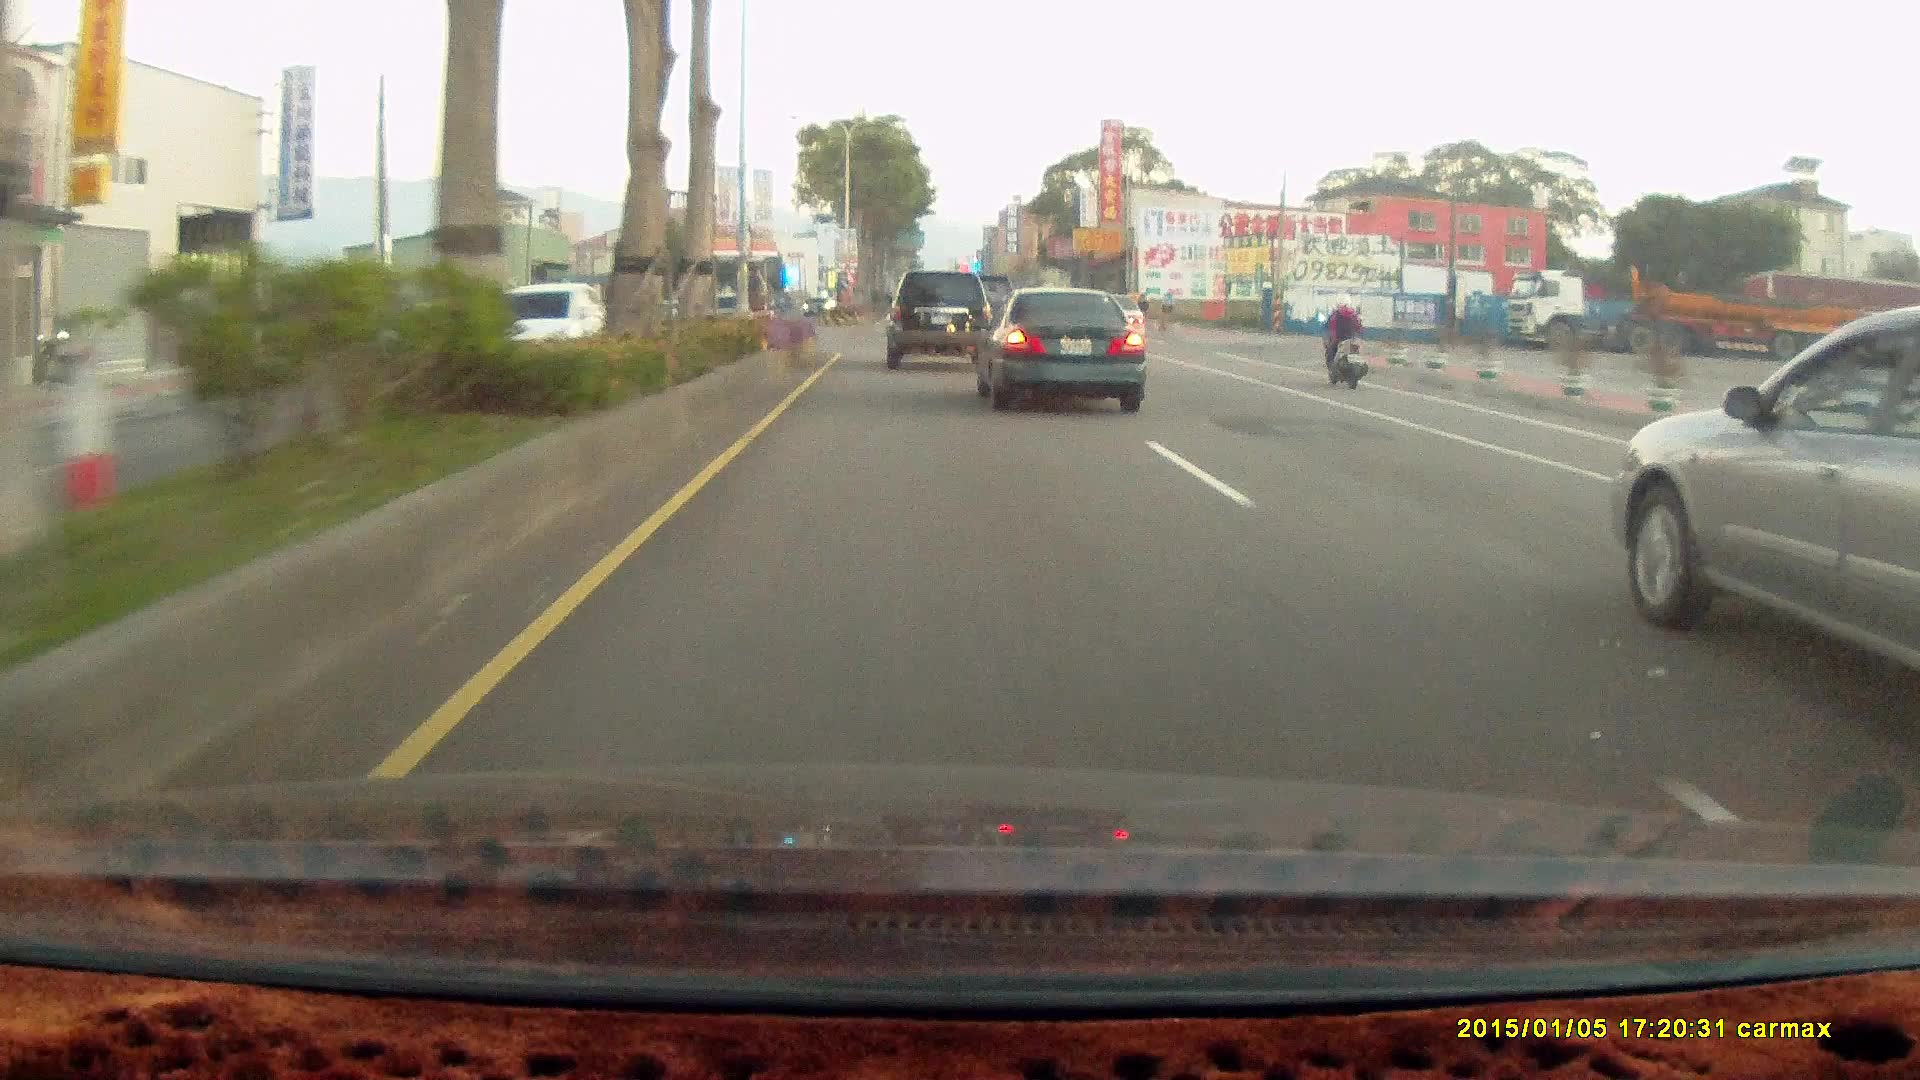rider: (1312, 290, 1376, 394), (1314, 292, 1370, 388)
vehicle: (1626, 304, 1920, 703), (1502, 264, 1865, 360), (970, 285, 1146, 413), (977, 289, 1147, 411), (478, 279, 611, 367), (887, 267, 997, 369), (882, 270, 991, 371)
